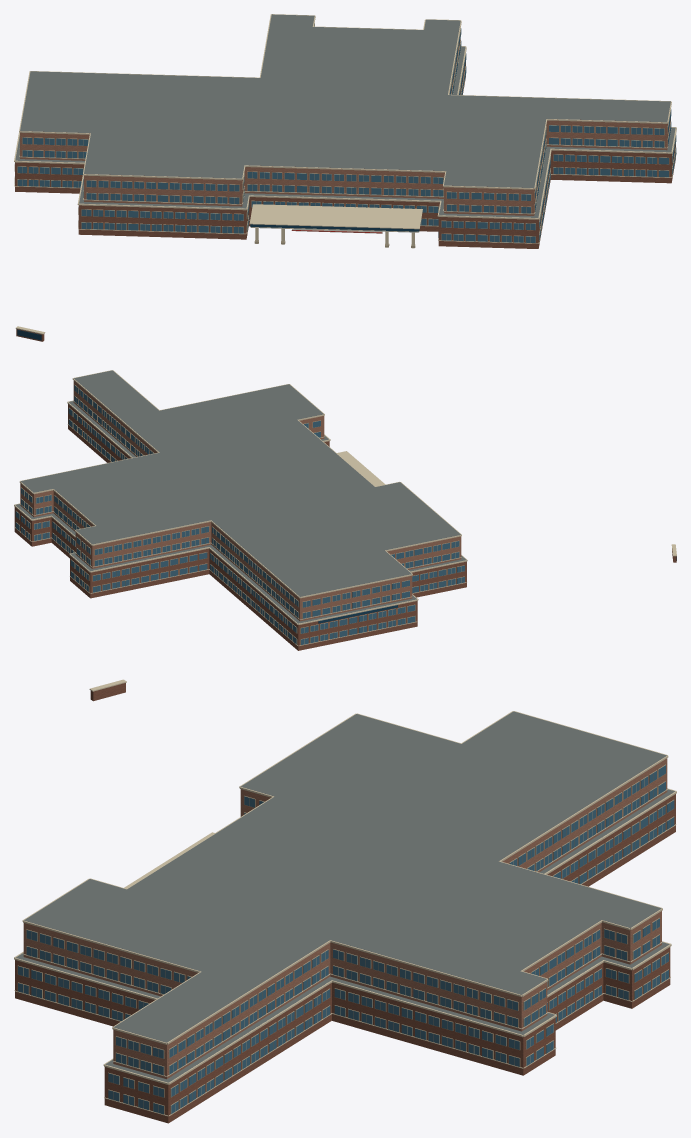
File: HarlingenMedicalCenter.glb
The picture shows the model from 3 angles, top to bottom: view 1: azimuth 30°, elevation 25°; view 2: azimuth 150°, elevation 25°; view 3: azimuth 270°, elevation 25°; orthographic projection. The views are drawn at different scales.
Parts seen in each view (by area): view 1: HarlingenMedicalCenter; view 2: HarlingenMedicalCenter; view 3: HarlingenMedicalCenter.
Boxes of the visible parts, bbox=[...] form: HarlingenMedicalCenter: bbox=[14, 14, 676, 341]; HarlingenMedicalCenter: bbox=[14, 370, 676, 650]; HarlingenMedicalCenter: bbox=[14, 679, 676, 1123].
Size of the model in its own units: 203 by 16.8 by 131.
10 materials, 2 textured.
